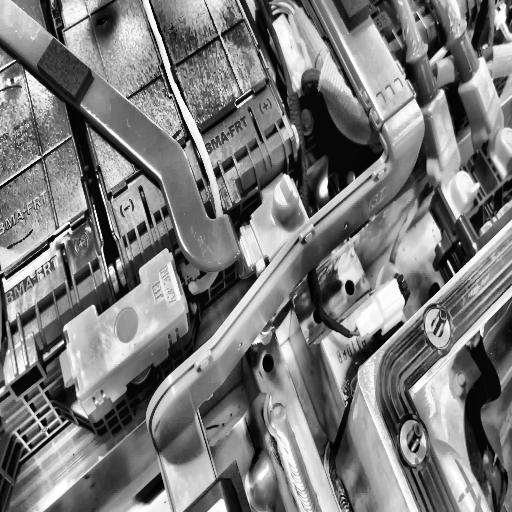busbar: (145, 0, 425, 512), (0, 0, 307, 269)
high_volt_cable: (142, 0, 231, 302), (393, 0, 487, 234), (433, 0, 512, 184)
